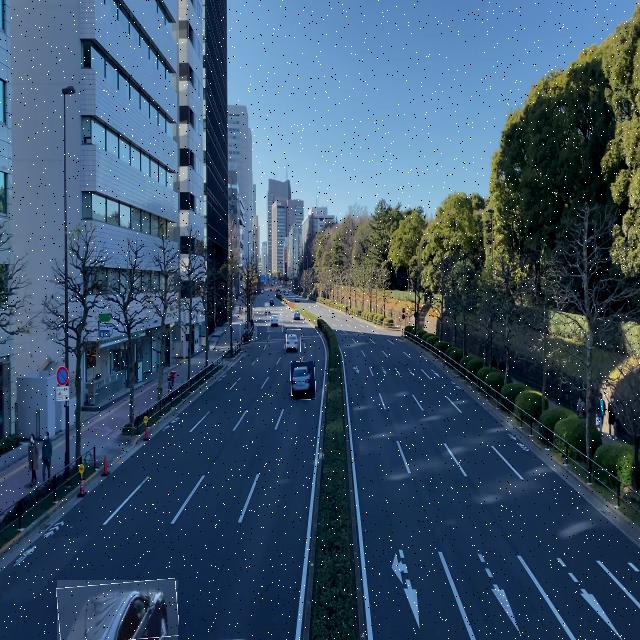Car: (57, 580, 178, 640), (291, 361, 315, 400), (287, 329, 301, 356), (267, 312, 283, 332)
